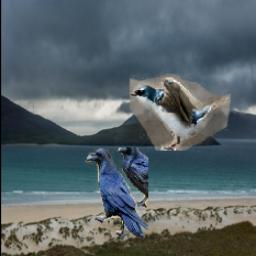Crow: (85, 148, 148, 240)
Swallow: (130, 75, 231, 152)
